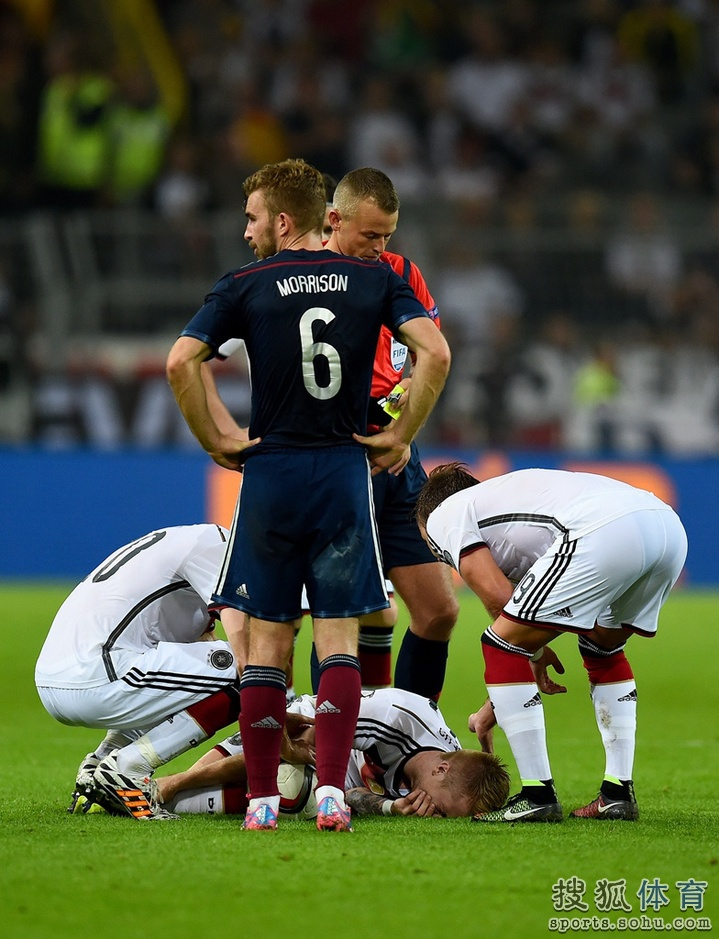falling: (124, 668, 516, 836)
